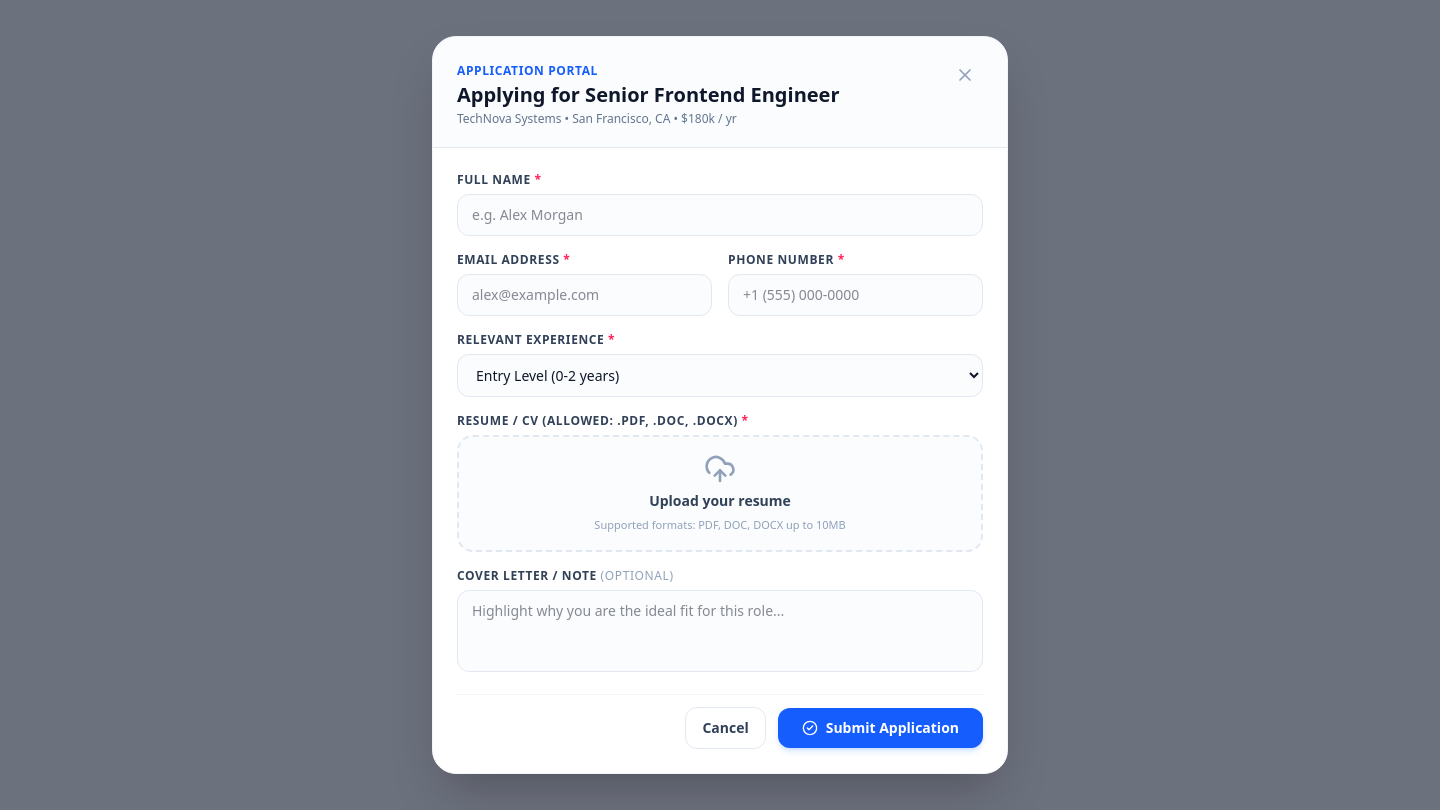
Test: BUG-06 — Required-field validation guard (handleSubmit) › BUG-06-B: submitting with all text fields filled but no resume should be blocked
This screenshot has width=1440, height=810.
In the field with placeholder "e.g. Alex Morgan": coordinates (720, 215) [457,194,983,236], type "Alice Smith"
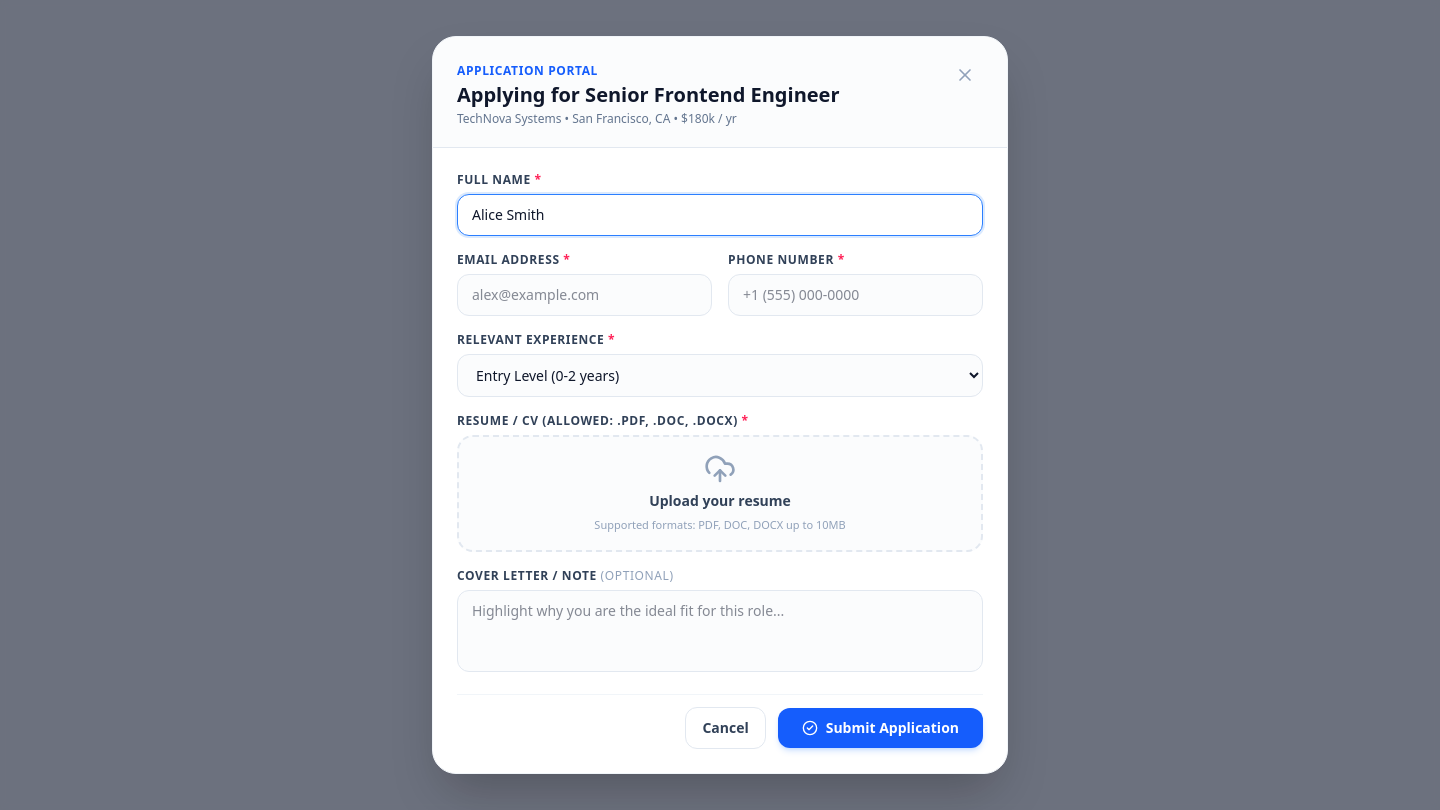
In the field with placeholder "alex@example.com": coordinates (584, 295) [457,274,712,316], type "alice@example.com"
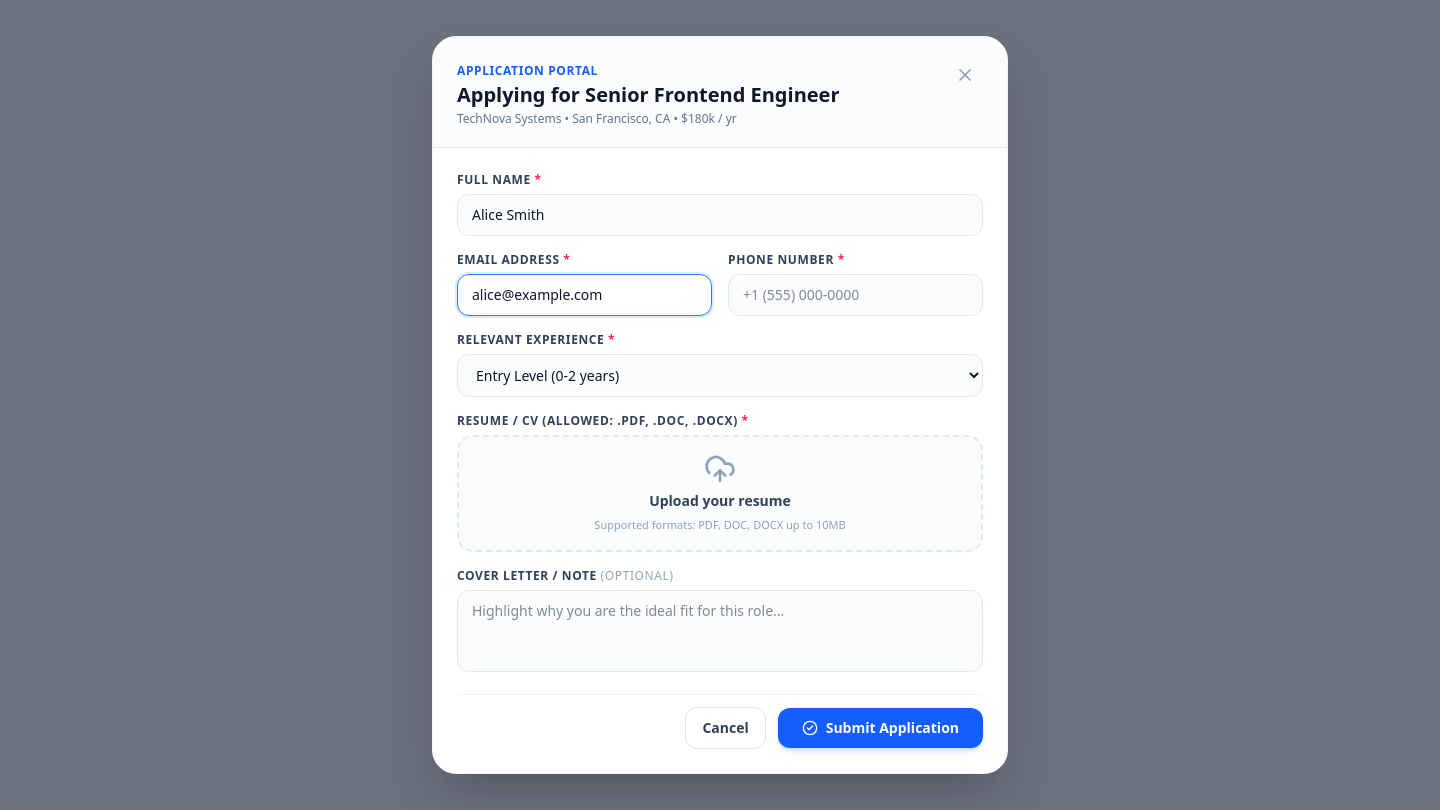
In the field with placeholder "+1 (555) 000-0000": coordinates (856, 295) [728,274,983,316], type "5550001234"
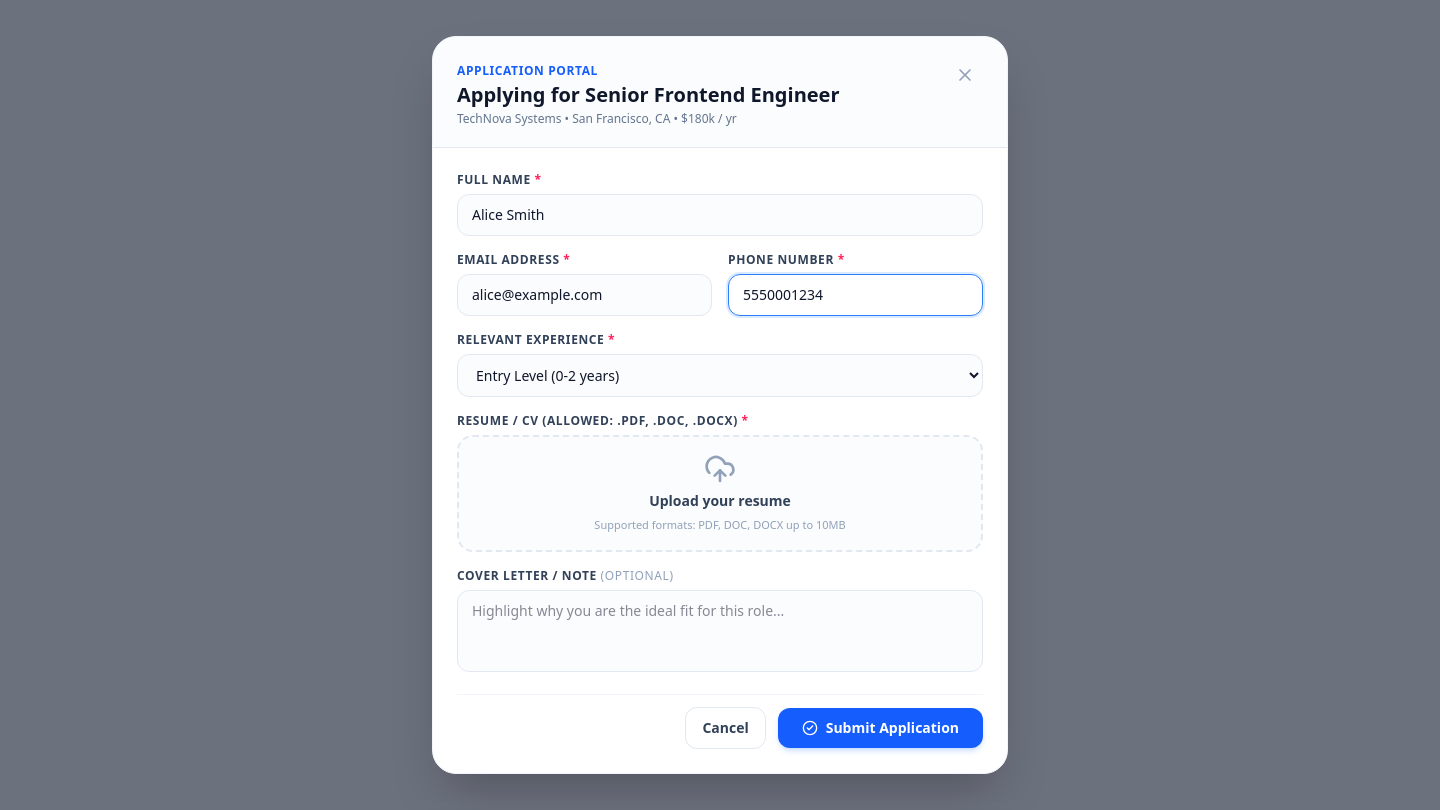
Click the button "Submit Application": coordinates (880, 728) [778,708,983,748]
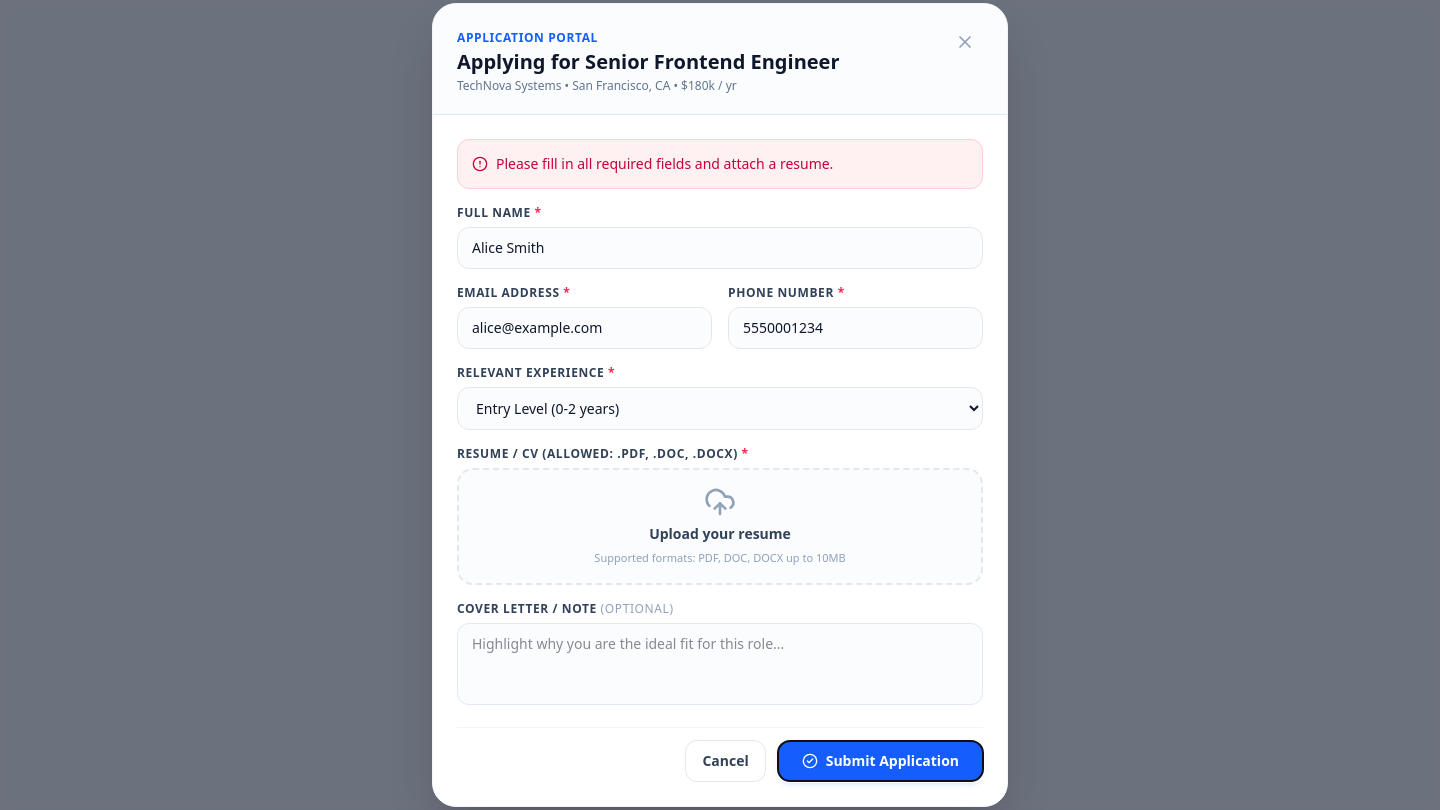
Expected: the text "Please fill in all required fields and attach a resume." is shown, [496,154,833,174]
